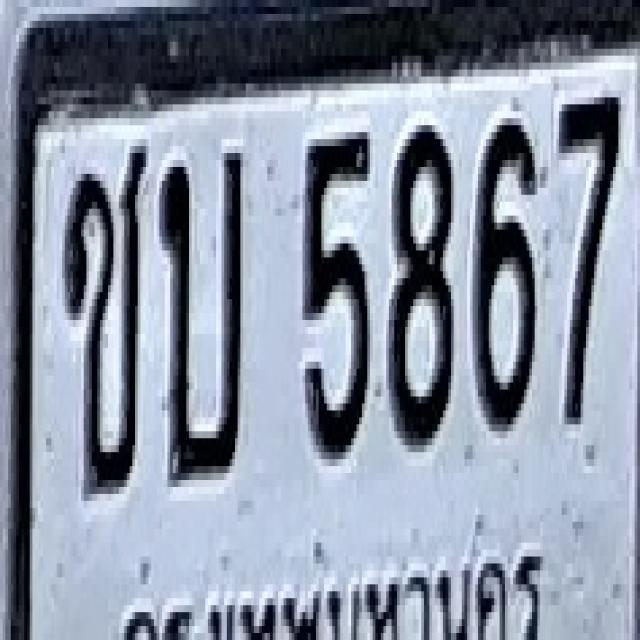-: (64, 139, 144, 494), (159, 146, 243, 480)
5: (302, 128, 370, 456)
6: (474, 118, 536, 424)
7: (559, 90, 618, 424)
8: (388, 125, 452, 445)
